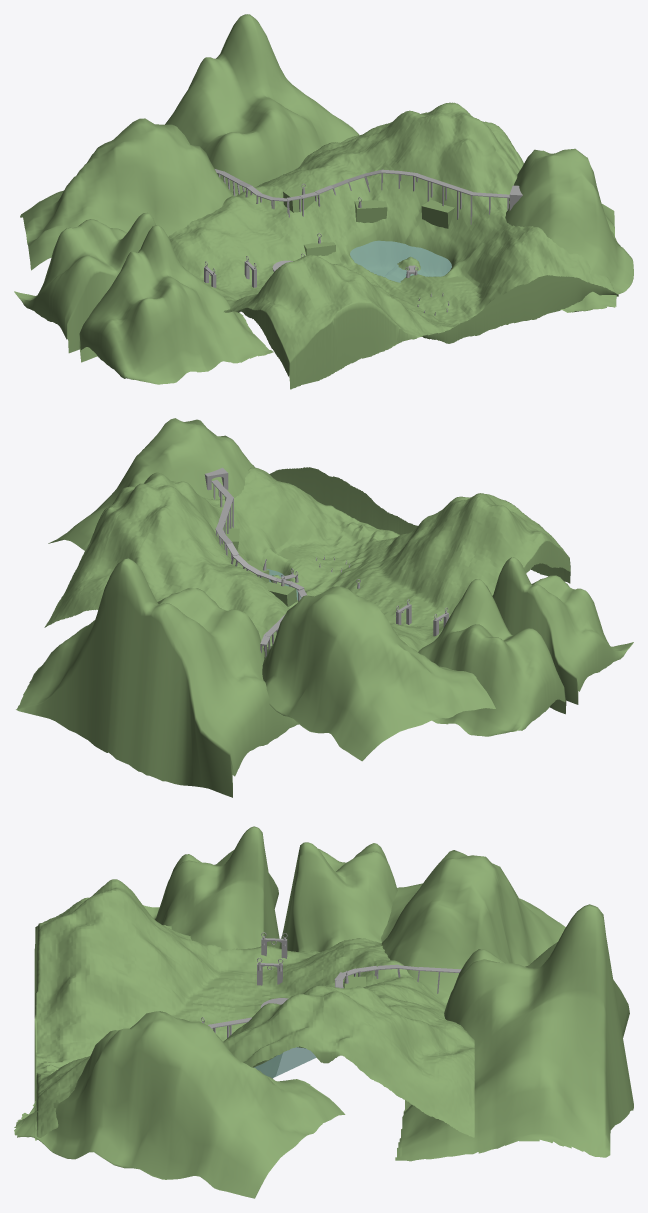
The model's file is Blockout_Landscape.fbx.
The picture shows the model from 3 angles, top to bottom: view 1: azimuth 30°, elevation 25°; view 2: azimuth 150°, elevation 25°; view 3: azimuth 270°, elevation 25°; orthographic projection. The views are drawn at different scales.
Parts seen in each view (by area): view 1: Landscape; view 2: Landscape; view 3: Landscape.
Part boxes in pixels (<box>): Landscape: <box>14,14,633,389</box>; Landscape: <box>16,418,633,797</box>; Landscape: <box>14,826,633,1198</box>.
Bounding box in the file's own units: 161 × 58.31 × 141.
